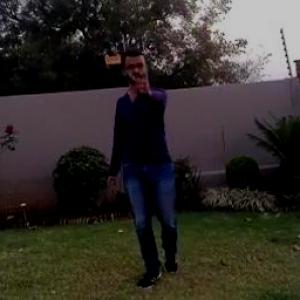takeoff-hand: (128, 60, 158, 100)
